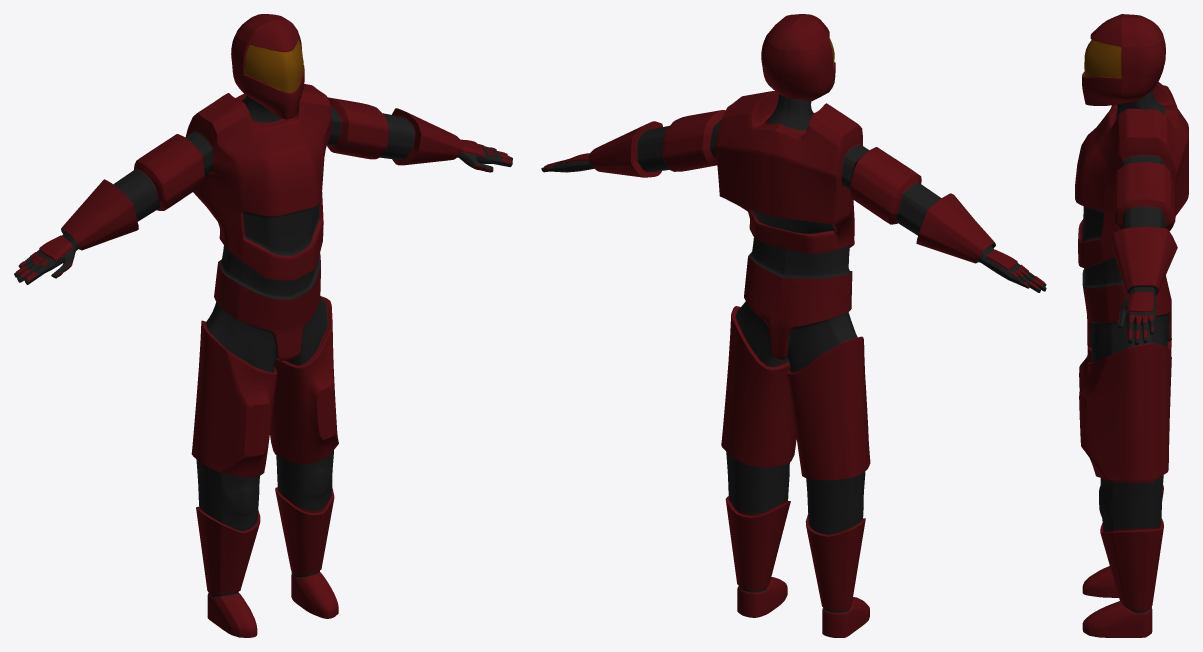
The model's file is enemy.fbx.
3 renders of one model, left to right at view 1: azimuth 30°, elevation 25°; view 2: azimuth 150°, elevation 25°; view 3: azimuth 270°, elevation 25°, orthographic.
Visible parts, largest first — view 1: pCube1; view 2: pCube1; view 3: pCube1.
Boxes of the visible parts, x1,y1,x2,y2 form: pCube1: (14,14,512,637); pCube1: (541,14,1046,637); pCube1: (1075,14,1188,637).
Bounding box in the file's own units: 145 × 165 × 28.69.
Materials: 1 (1 with a texture image).
